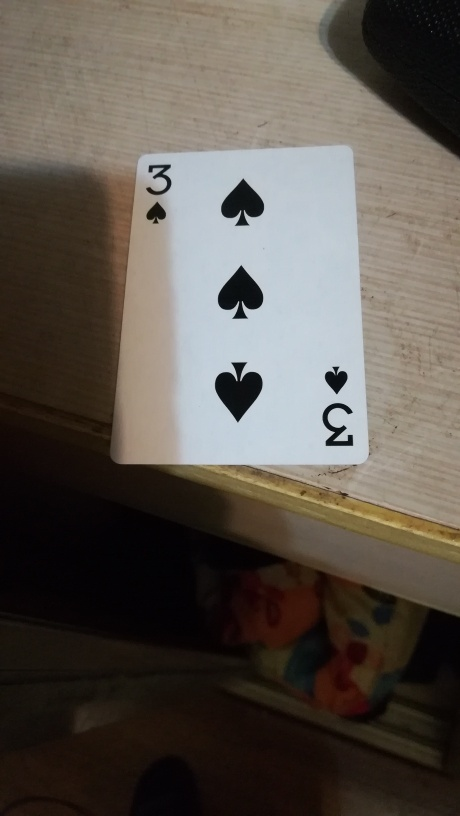ht 3: (112, 148, 376, 476)
